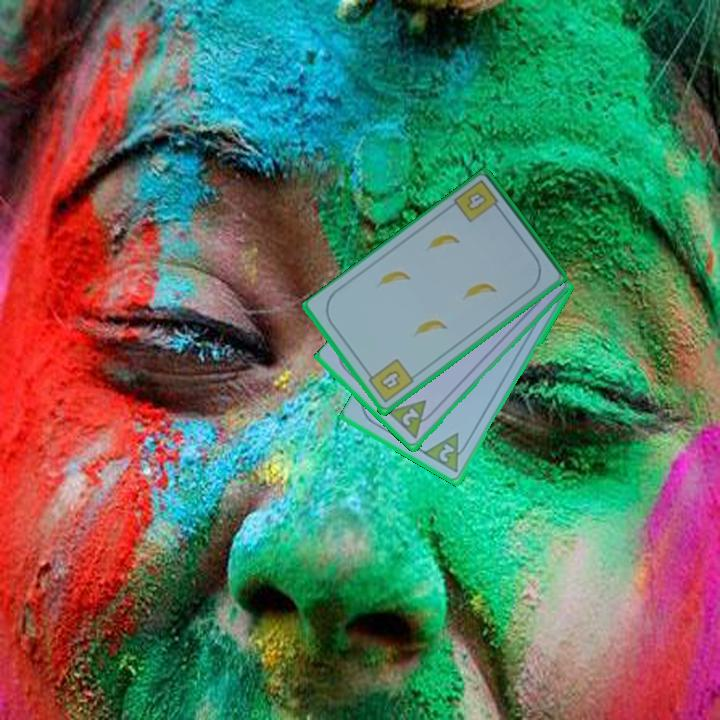2p: (385, 396, 439, 443), (435, 440, 458, 465)
4b: (450, 176, 505, 226), (363, 356, 416, 407)
